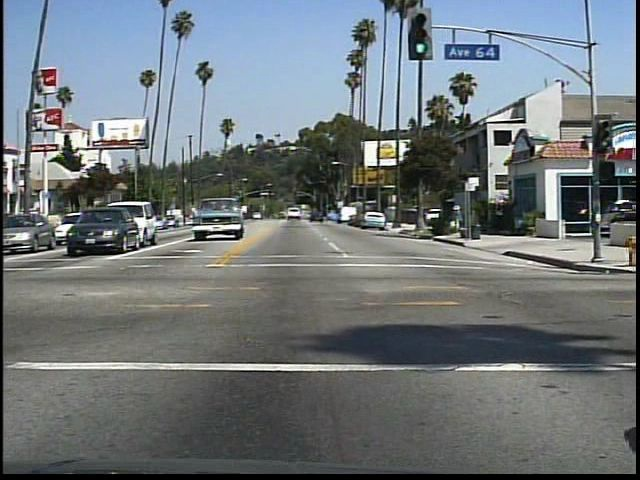person: (448, 200, 465, 236)
